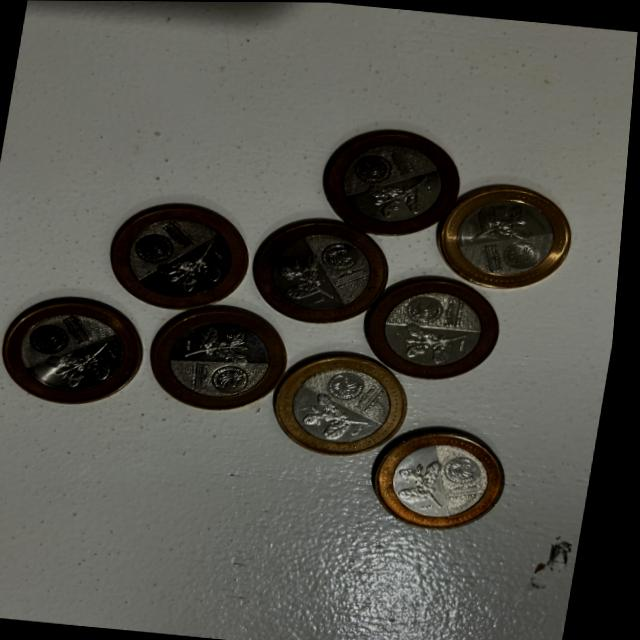20_New_Back: (282, 250, 351, 304), (303, 390, 375, 440), (155, 246, 226, 295), (47, 346, 119, 390), (181, 325, 255, 366), (399, 323, 469, 364), (471, 202, 540, 243), (399, 460, 458, 506), (367, 176, 430, 219)
